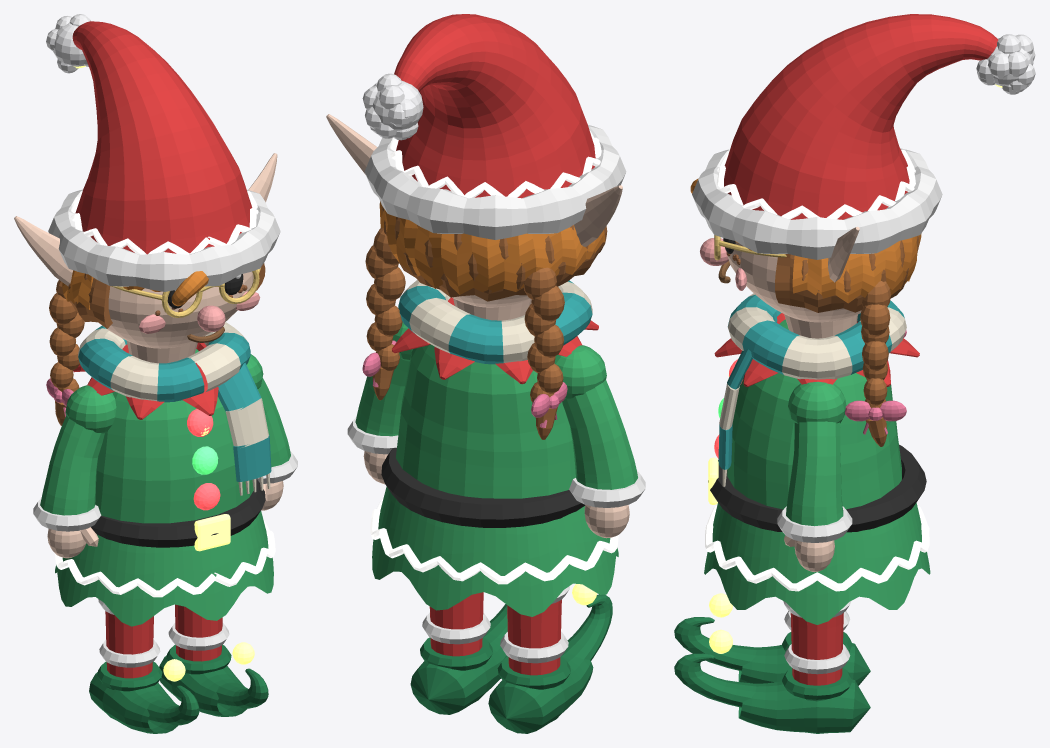
File: Elfo.glb
3 views of the same model, side by side, from view 1: azimuth 30°, elevation 25°; view 2: azimuth 150°, elevation 25°; view 3: azimuth 270°, elevation 25° (orthographic). The views are drawn at different scales.
Parts seen in each view (by area): view 1: Gorro, Cuerpo, Falda, Acc_Chispa_Bufanda, GorroBorde, Cabeza, BrazoR, Acc_Nieves_Pelo, ZapatoR, Cinturon, ZapatoL, Acc_Jengibre_Glaseado (+21 smaller); view 2: Gorro, Cuerpo, Falda, GorroBorde, Acc_Nieves_Pelo, Acc_Chispa_Copete, Acc_Chispa_Bufanda, Cinturon, BrazoR, ZapatoR, ZapatoL, Acc_Jengibre_Glaseado (+17 smaller); view 3: Gorro, Falda, Cuerpo, GorroBorde, Acc_Chispa_Bufanda, Acc_Nieves_Pelo, ZapatoL, BrazoL, Cinturon, Acc_Chispa_Copete, Cabeza, Acc_Jengibre_Glaseado (+13 smaller).
Part boxes in pixels (x1,y1,x2,y2): Gorro: (72,21,252,254); Cuerpo: (95,349,253,523); Falda: (55,511,273,626); Acc_Chispa_Bufanda: (78,322,271,495); GorroBorde: (48,189,280,291); Cabeza: (99,271,253,363); BrazoR: (40,416,104,515); Acc_Nieves_Pelo: (49,263,265,425); ZapatoR: (89,661,178,733); Cinturon: (91,478,265,547); ZapatoL: (159,644,246,716); Acc_Jengibre_Glaseado: (55,519,275,597); Gorro: (394,14,595,198); Cuerpo: (396,344,575,498); Falda: (372,486,618,616); GorroBorde: (364,125,626,239); Acc_Nieves_Pelo: (365,207,607,439); Acc_Chispa_Copete: (379,201,605,294); Acc_Chispa_Bufanda: (398,280,592,364); Cinturon: (381,448,584,527); BrazoR: (562,380,637,489); ZapatoR: (488,652,593,733); ZapatoL: (410,633,507,714); Acc_Jengibre_Glaseado: (370,496,618,584); Gorro: (724,14,998,219); Falda: (704,503,930,624); Cuerpo: (727,319,901,509); GorroBorde: (692,148,942,259); Acc_Chispa_Bufanda: (718,293,906,486); Acc_Nieves_Pelo: (775,236,918,446); ZapatoL: (738,667,870,733); BrazoL: (786,421,843,526); Cinturon: (708,444,926,532); Acc_Chispa_Copete: (690,178,921,303); Cabeza: (726,242,861,338); Acc_Jengibre_Glaseado: (705,506,929,591).
Size of the model in its own units: 0.6462 by 1.51 by 0.7139.
